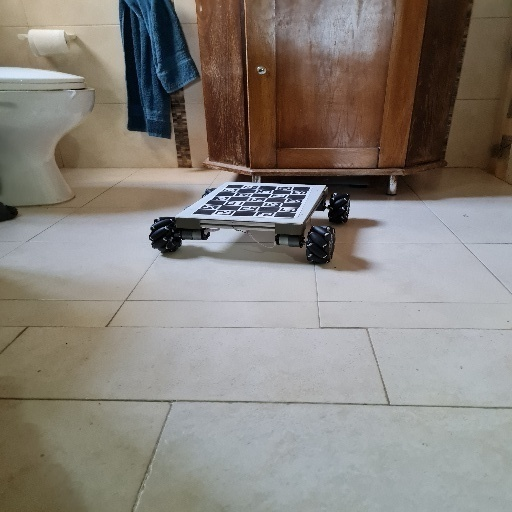Omniwheel: (147, 180, 354, 266)
